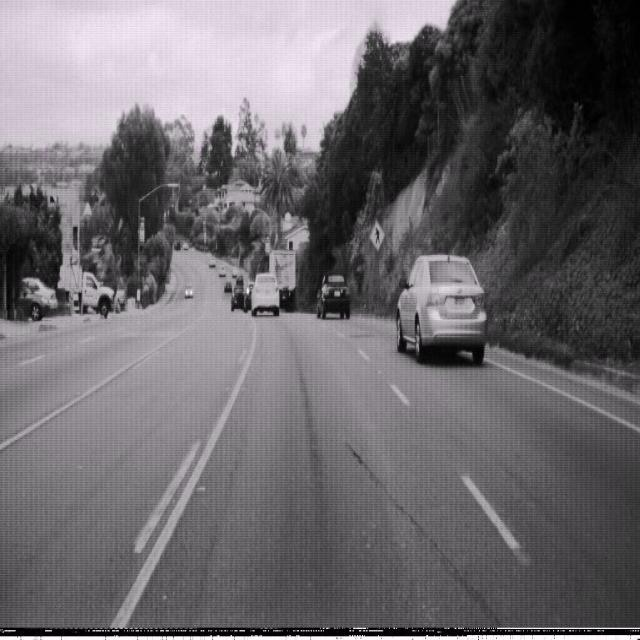pedestrianCrossing: (368, 218, 386, 253)
